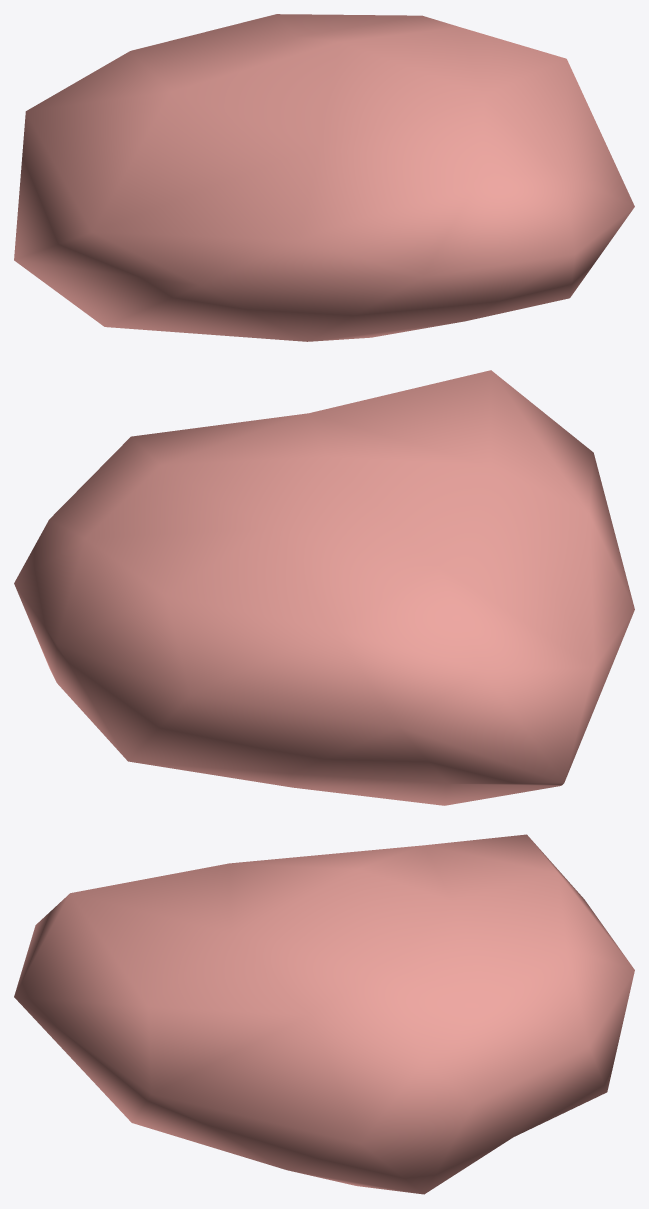
File: Lump.fbx
3 renders of one model, top to bottom at view 1: azimuth 30°, elevation 25°; view 2: azimuth 150°, elevation 25°; view 3: azimuth 270°, elevation 25°, orthographic. The views are drawn at different scales.
Visible parts, largest first — view 1: Icosphere; view 2: Icosphere; view 3: Icosphere.
Boxes of the visible parts, box(x1,y1,x2,y2) form: Icosphere: box(14, 14, 634, 341); Icosphere: box(14, 370, 634, 805); Icosphere: box(14, 834, 634, 1194).
Bounding box in the file's own units: 93.25 × 46.54 × 96.75.
